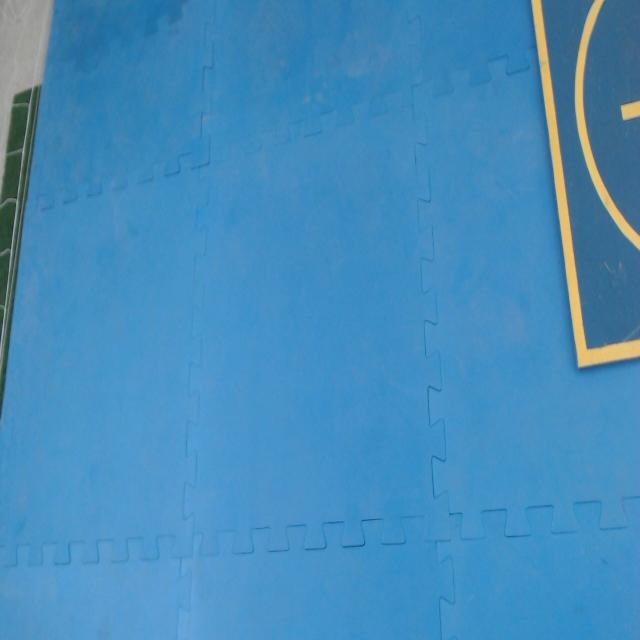base_pouso: (531, 0, 640, 376)
